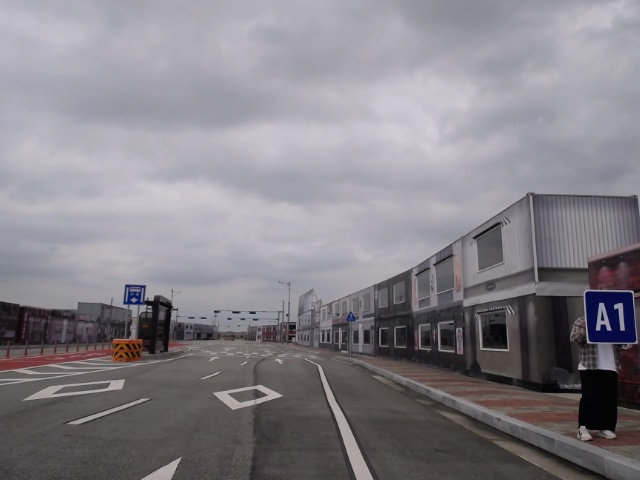delivery_a1: (585, 291, 637, 344)
